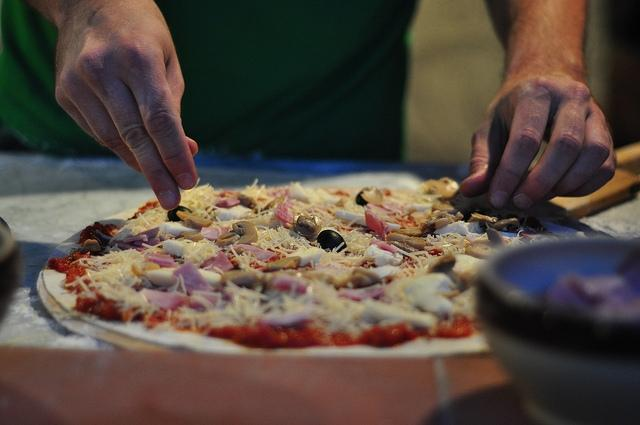mushroom: (428, 252, 464, 293), (334, 266, 382, 290), (217, 222, 258, 246), (293, 211, 323, 239), (221, 270, 262, 290), (424, 178, 460, 200), (386, 232, 426, 250), (177, 210, 213, 228), (264, 256, 302, 270), (70, 240, 102, 256), (435, 212, 464, 229), (91, 229, 113, 246), (391, 228, 423, 238), (466, 213, 498, 223)
